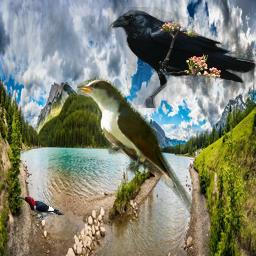Crow: (105, 7, 256, 108)
Cuckoo: (77, 76, 197, 214)
Woodpecker: (17, 195, 65, 221)
